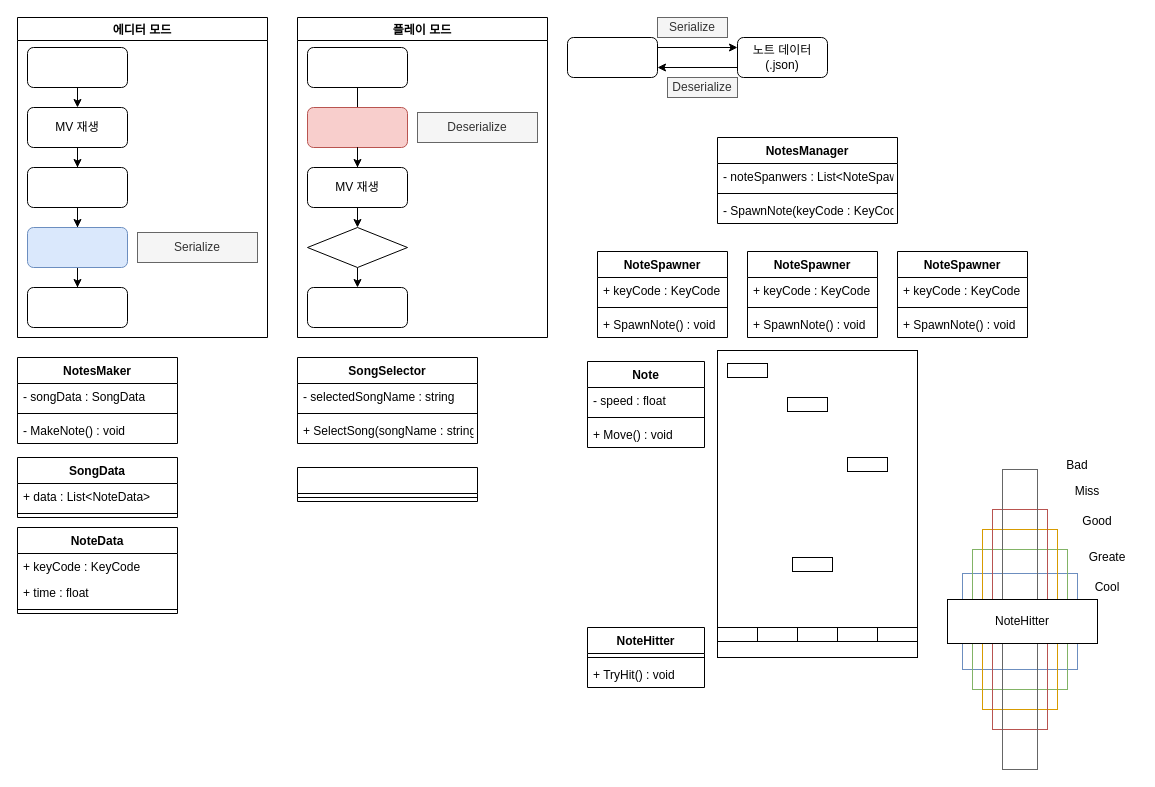
This 1155x787 diagram has some shape labels left out. Here are the shapes that lost their labels. From the top down, the centre of each, then its label:
At point 77,67: "녹화 시작".
At point 357,67: "노래 선택".
At point 612,57: "노트 데이터 (object)".
At point 357,127: "노트 데이터 불러오기".
At point 77,187: "노트 데이터 녹화".
At point 77,247: "노트 데이터 저장".
At point 357,247: "MV 가 끝났는가?".
At point 77,307: "MV 중지".
At point 357,307: "점수 표시".
At point 387,484: "GameManager".
